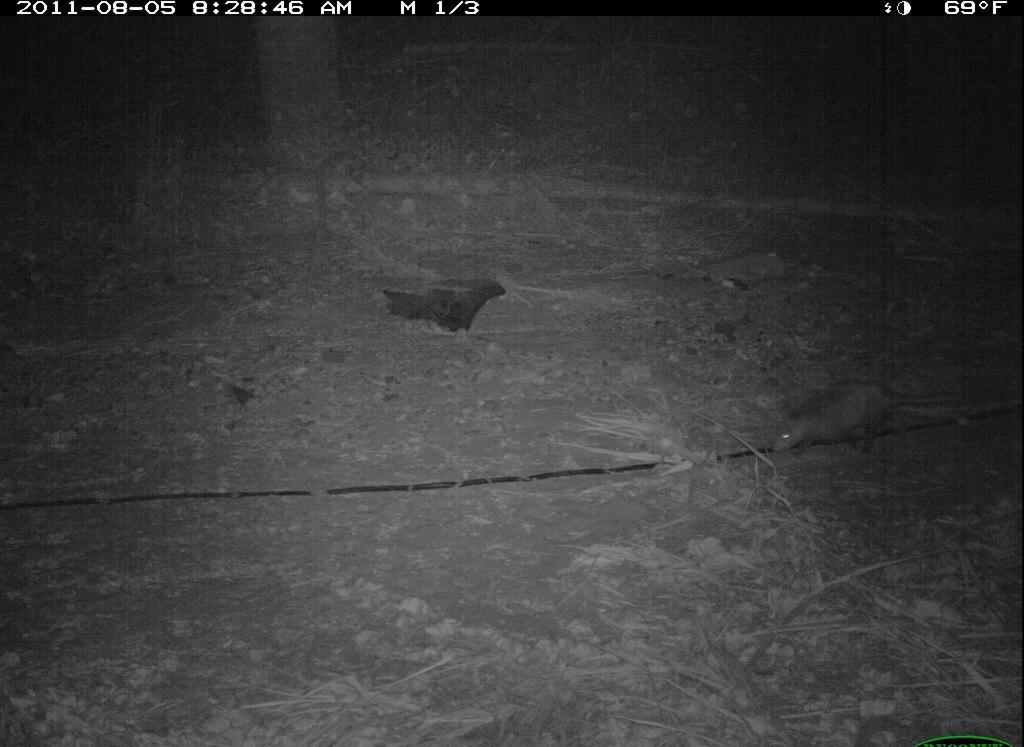opossum: (766, 368, 964, 463)
